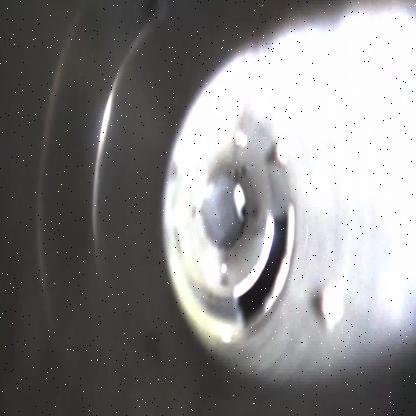Crack2: (234, 203, 296, 333)
